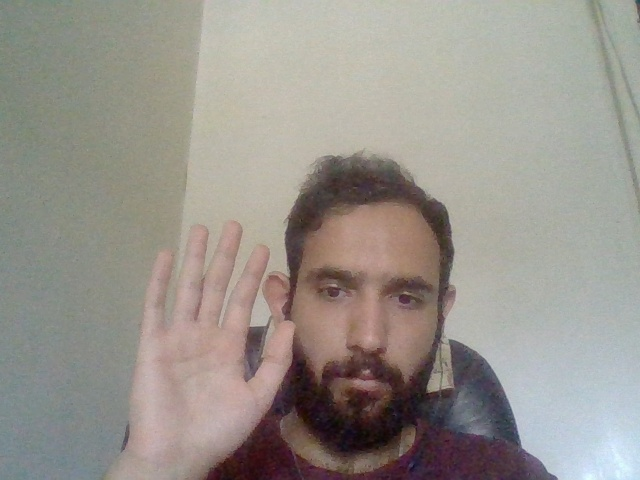Goodbye: (117, 206, 298, 471)
